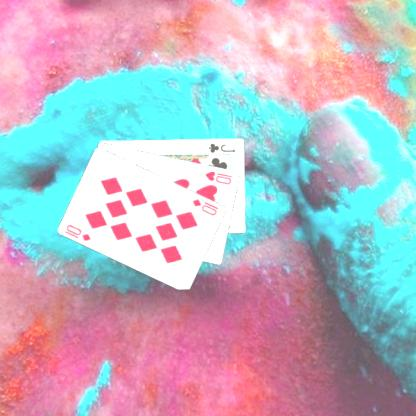10D: (190, 196, 221, 217), (62, 222, 92, 242)
10H: (202, 168, 234, 186)
JC: (206, 140, 237, 154)
